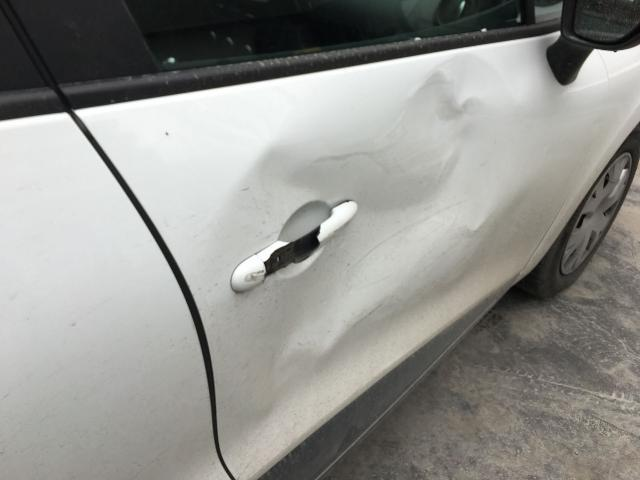crack: (255, 213, 347, 284)
dent: (201, 56, 534, 453)
